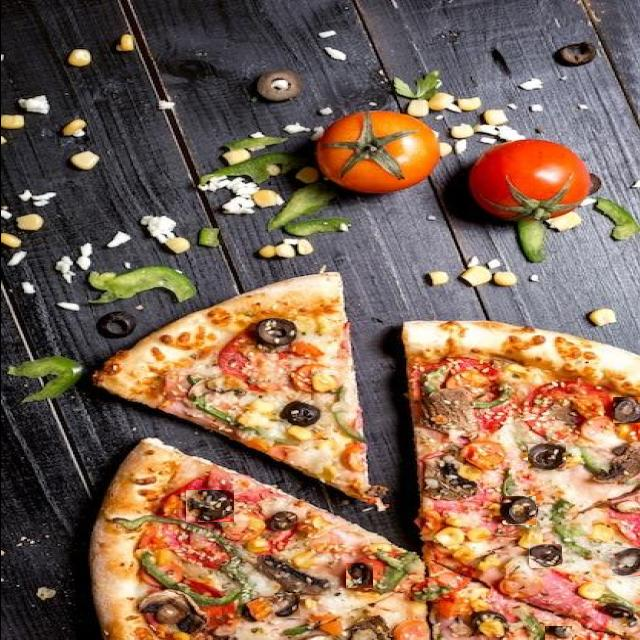olive: (185, 490, 233, 522), (254, 318, 297, 346), (527, 444, 565, 470), (501, 496, 535, 525), (280, 402, 319, 426), (611, 548, 640, 576), (528, 544, 561, 568), (612, 397, 640, 423), (273, 594, 299, 620), (345, 563, 372, 588), (270, 511, 297, 532), (469, 611, 506, 626), (602, 604, 632, 618), (544, 626, 571, 640)
